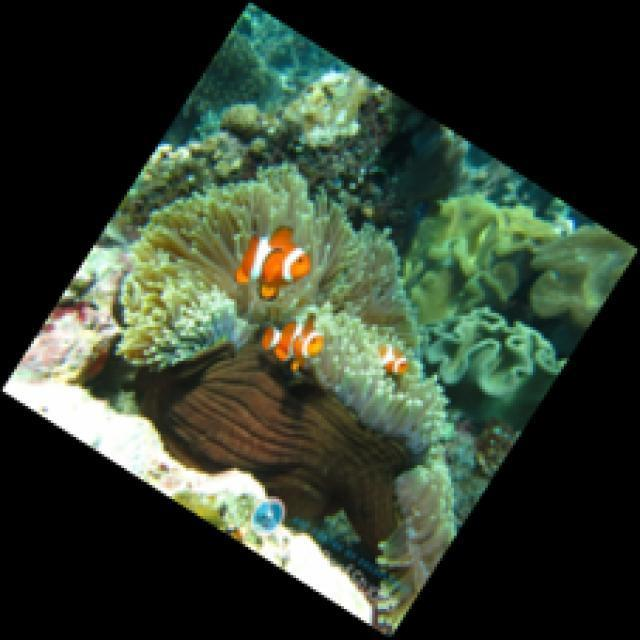Bleached: (119, 168, 461, 636), (3, 373, 379, 625), (425, 306, 574, 417)
